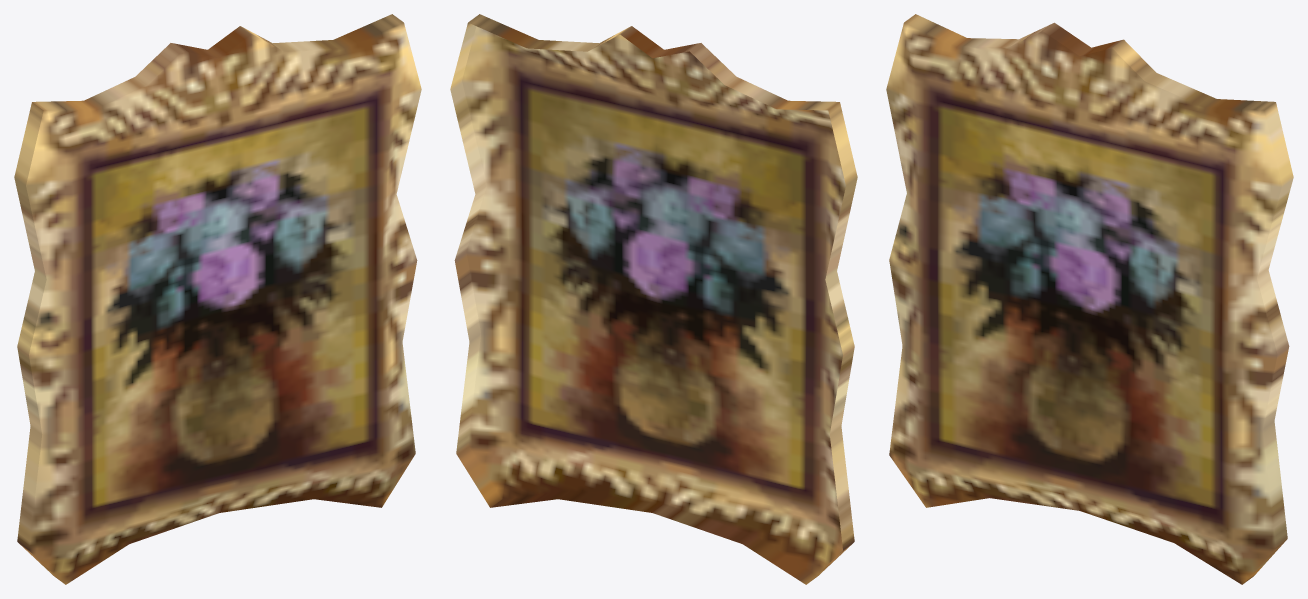
The model's file is gakub01-2.glb.
The picture shows the model from 3 angles, left to right: view 1: azimuth 30°, elevation 25°; view 2: azimuth 150°, elevation 25°; view 3: azimuth 330°, elevation 25°; orthographic projection.
Parts seen in each view (by area): view 1: gakub01; view 2: gakub01; view 3: gakub01.
Part boxes in pixels (x1,y1,x2,y2): gakub01: (14, 14, 421, 584); gakub01: (450, 14, 857, 584); gakub01: (886, 14, 1293, 584).
Bounding box in the file's own units: 187 × 228 × 15.93.
1 material, 1 textured.
